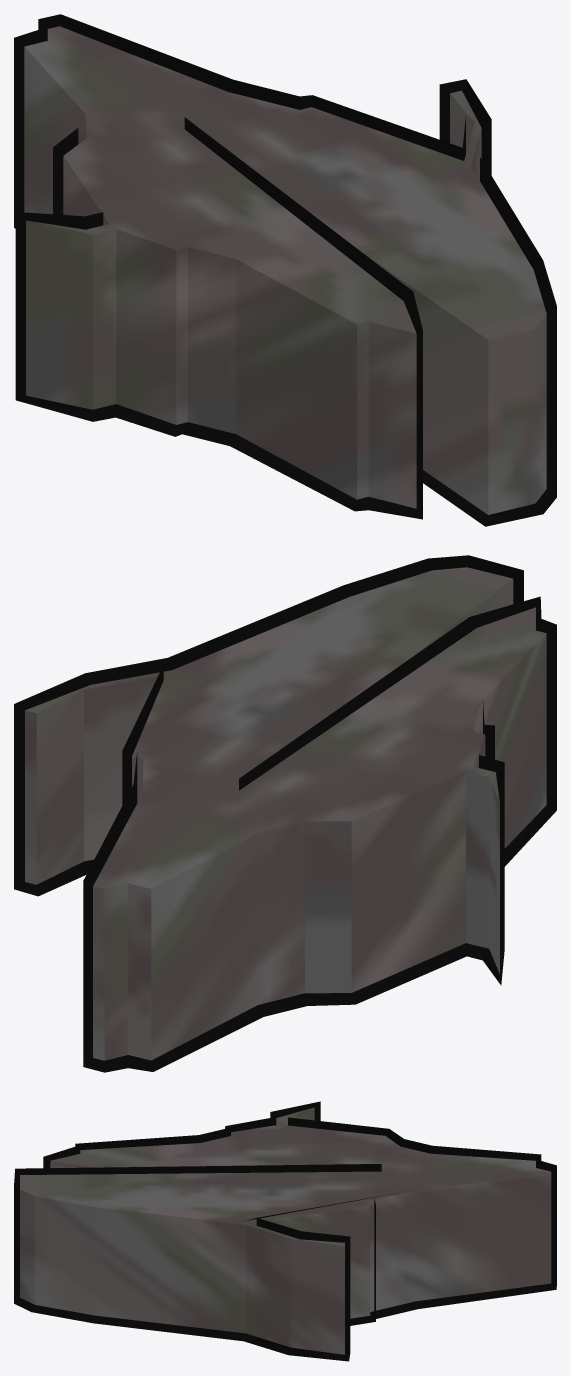
Rendered from Building_FloorEtching_Things_Filth_FloorEtchings_FloorEtchingA.glb.
3 renders of one model, top to bottom at view 1: azimuth 30°, elevation 25°; view 2: azimuth 150°, elevation 25°; view 3: azimuth 270°, elevation 25°, orthographic. The views are drawn at different scales.
Parts seen in each view (by area): view 1: Body, Outline; view 2: Body, Outline; view 3: Body, Outline.
Part boxes in pixels (<box>): Body: <box>24,26,546,514</box>; Outline: <box>14,14,556,526</box>; Body: <box>25,567,546,1060</box>; Outline: <box>14,555,556,1072</box>; Body: <box>20,1107,551,1354</box>; Outline: <box>14,1101,556,1361</box>.
Bounding box in the file's own units: 0.6277 × 0.2528 × 1.01.
2 materials, 1 textured.
